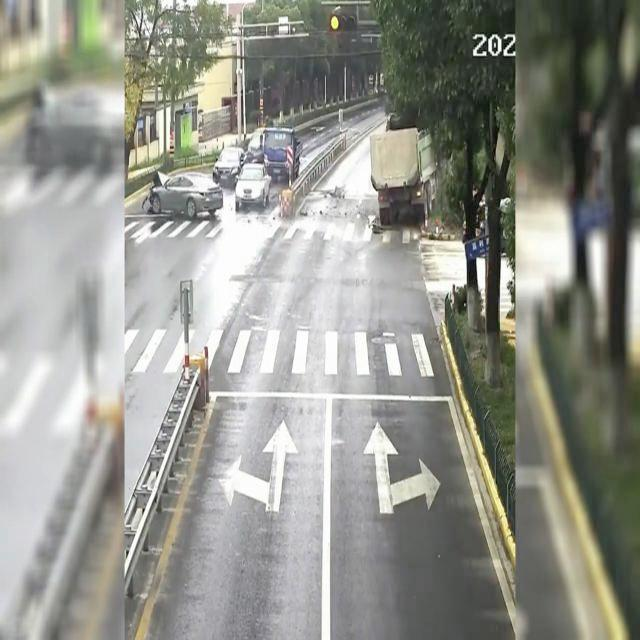accident: (310, 114, 476, 236), (141, 172, 223, 220)
non-accident: (213, 127, 301, 211)
